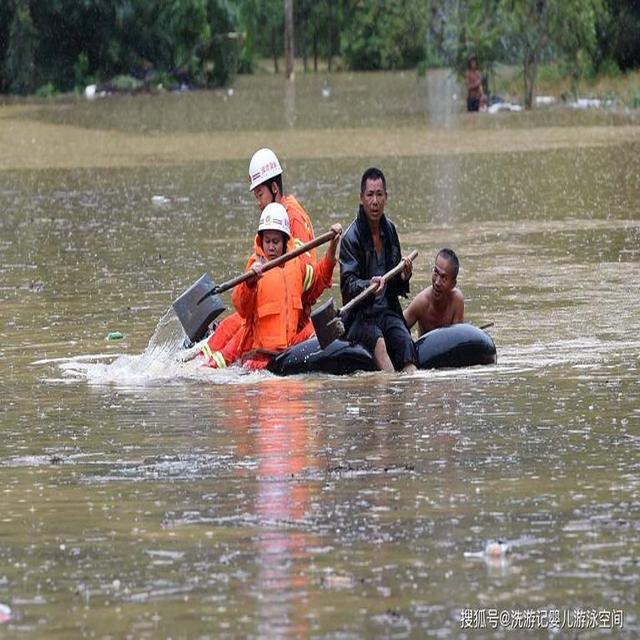Person-RiskLevel3: (186, 138, 320, 370), (227, 199, 336, 369), (336, 171, 424, 380), (406, 240, 507, 348)
